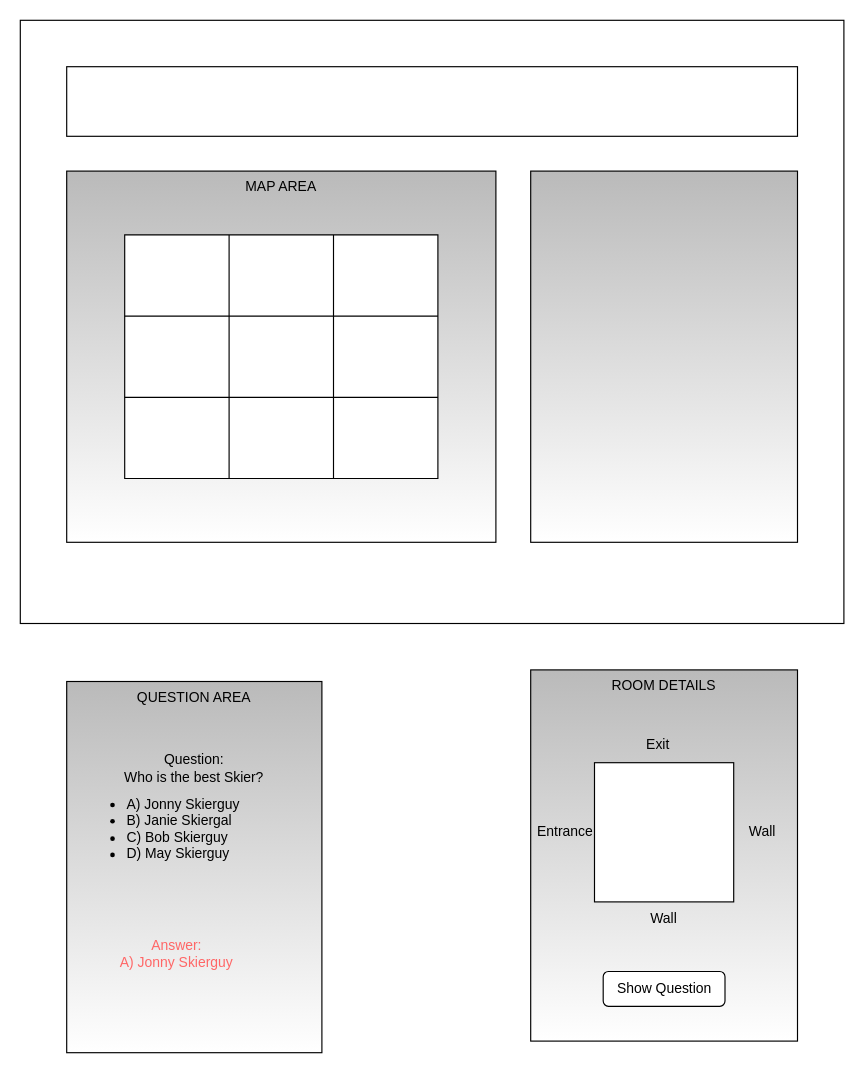
The diagram is 864 pixels wide and 1073 high, and some of its shapes have lost their labels. The shapes that lost their labels are listed below. From the top down, each one's centre as x and y in pixels, then its label:
(x=432, y=101): Four Musketeers Olympics Trivia Maze
(x=664, y=356): INFO FRAME
